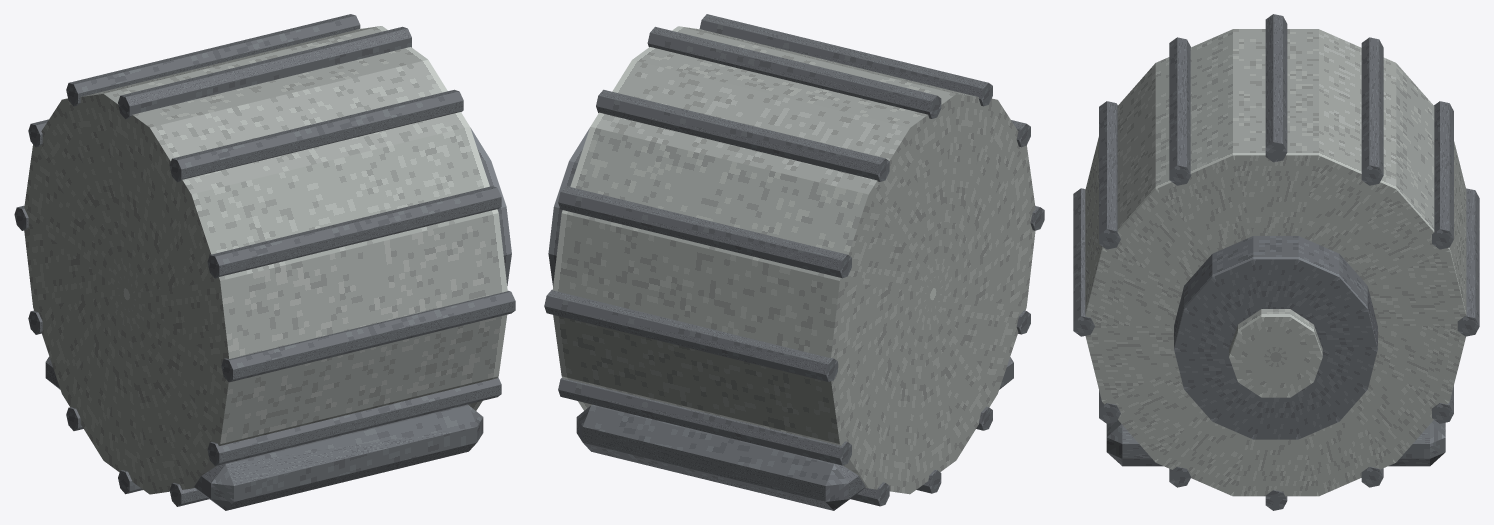
File: motor_small.glb
3 views of the same model, side by side, from view 1: azimuth 30°, elevation 25°; view 2: azimuth 150°, elevation 25°; view 3: azimuth 270°, elevation 25° (orthographic). The views are drawn at different scales.
Parts seen in each view (by area): view 1: block_vented cast body, block_cooling rib (×7), block_mounting foot, block_drive pulley; view 2: block_vented cast body, block_cooling rib (×7), block_mounting foot, block_drive pulley; view 3: block_vented cast body, block_drive pulley, block_cooling rib (×7), block_hub centre, block_mounting foot.
Boxes of the visible parts, x1,y1,x2,y2 form: block_vented cast body: (24,26,507,494); block_cooling rib (×7): (66,14,515,506); block_mounting foot: (45,356,483,510); block_drive pulley: (470,127,511,285); block_vented cast body: (552,26,1035,494); block_cooling rib (×7): (544,14,992,506); block_mounting foot: (576,357,1013,510); block_drive pulley: (548,128,589,286); block_vented cast body: (1085,29,1466,496); block_drive pulley: (1174,236,1377,439); block_cooling rib (×7): (1073,14,1479,336); block_hub centre: (1229,309,1322,397); block_mounting foot: (1106,420,1445,466).
Size of the model in its own units: 0.3187 by 0.3453 by 0.3448.
1 material, 1 textured.
